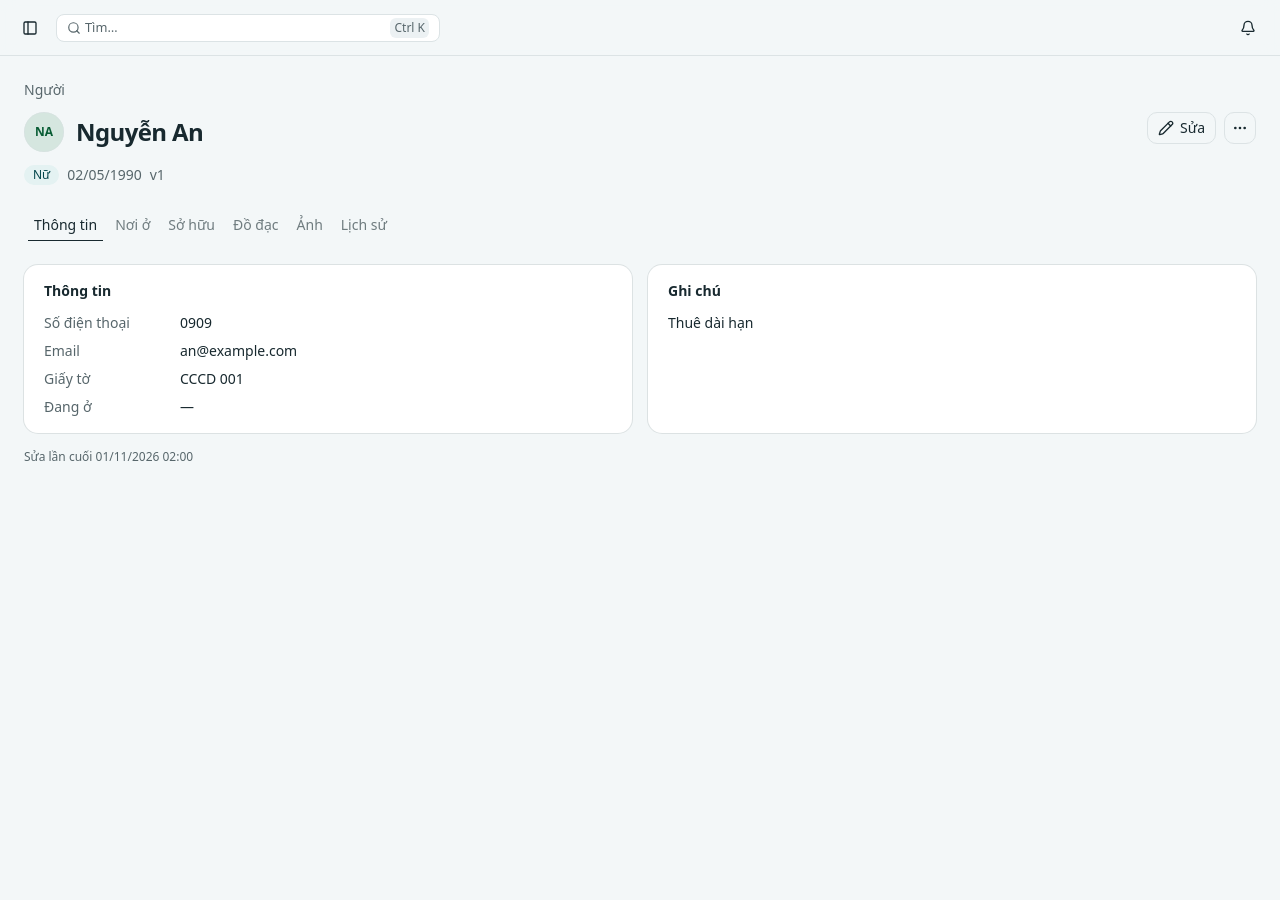
Test: undoRestoresTheDeletedPerson
Click the button named "Thao tác khác": (1240, 128) [1224,112,1256,144]
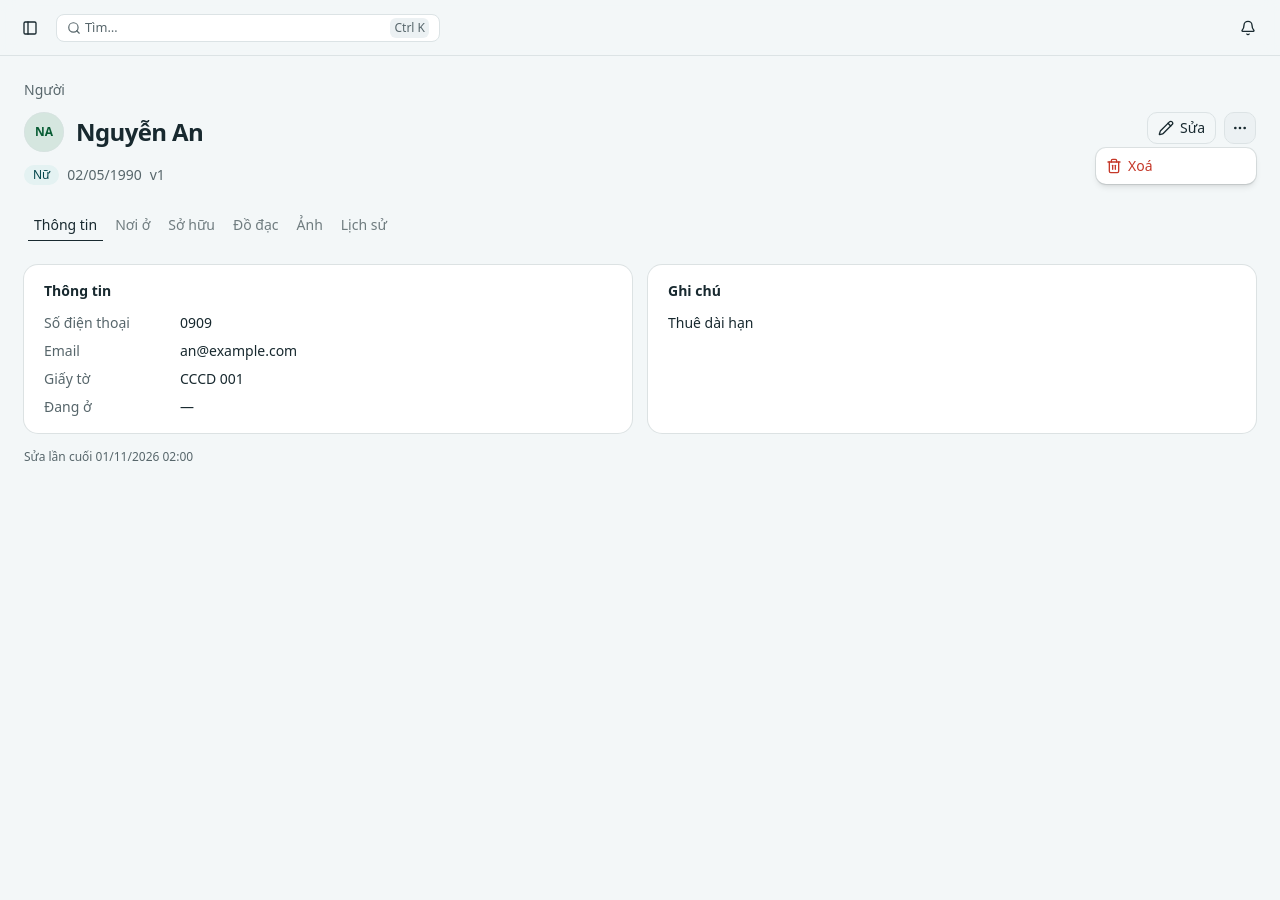
Click the menu item "Xoá": (1129, 166) [1106,156,1152,175]
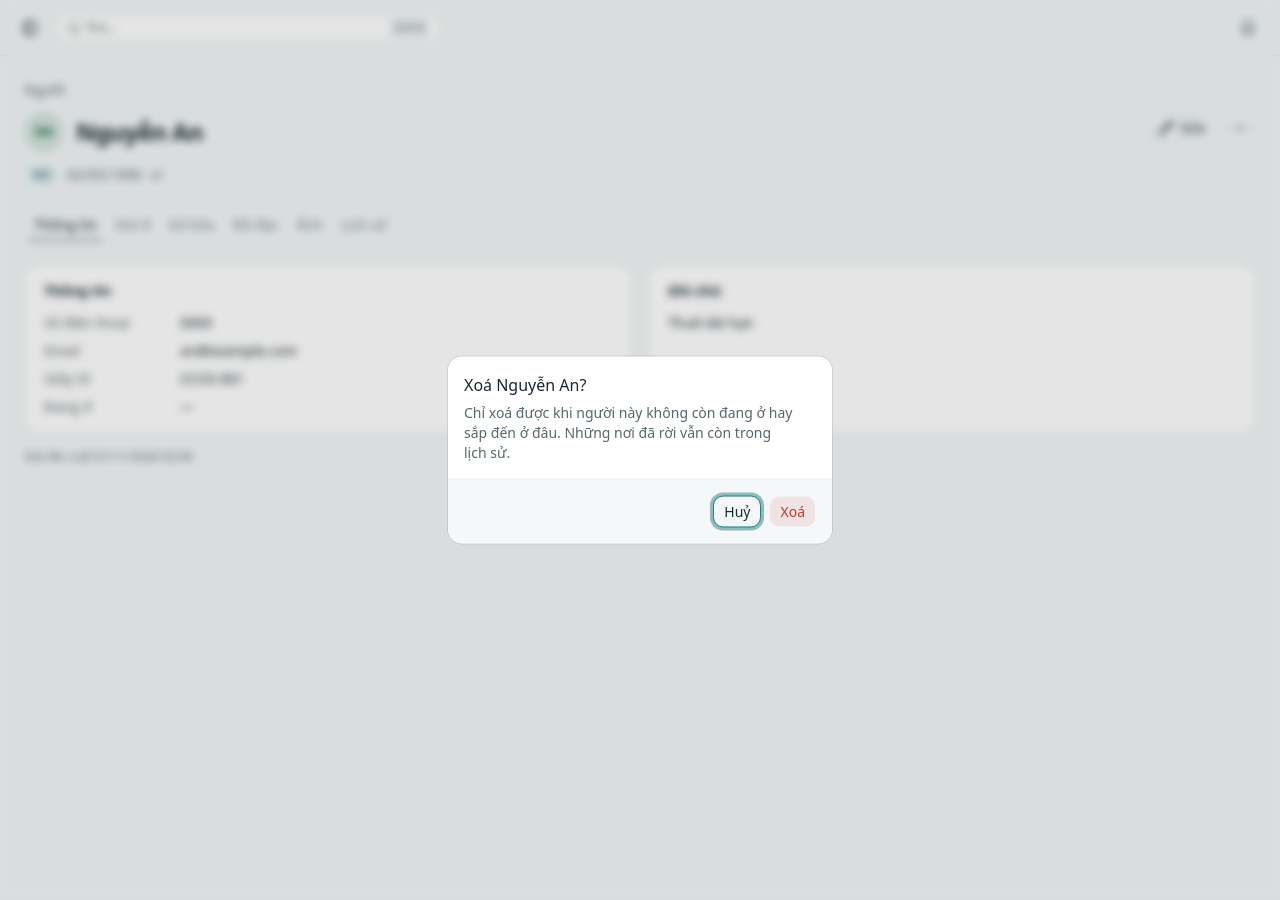
Click the button "Xoá": (793, 512) [770,496,816,528]
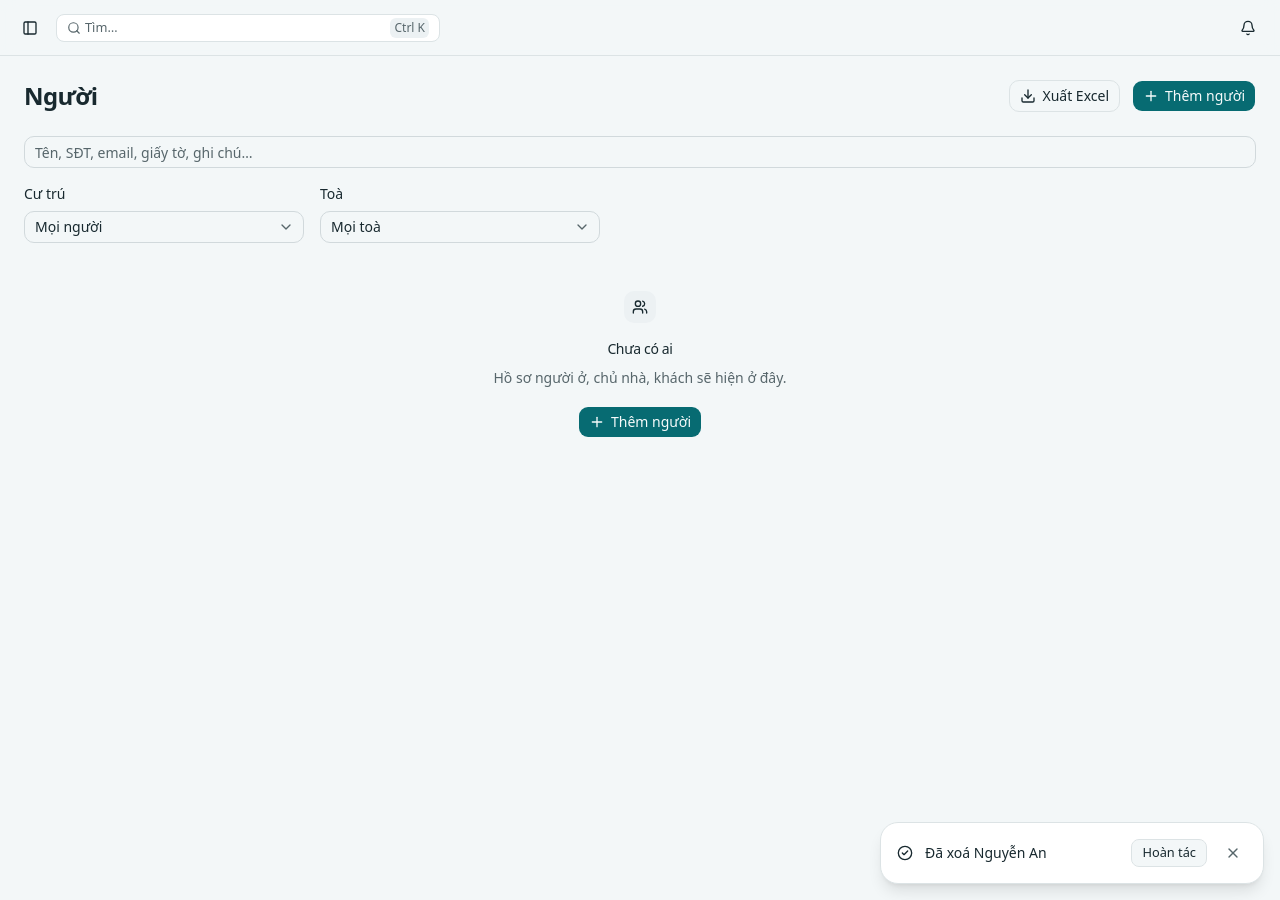
Click the button "Hoàn tác": (1169, 853) [1131,839,1207,867]
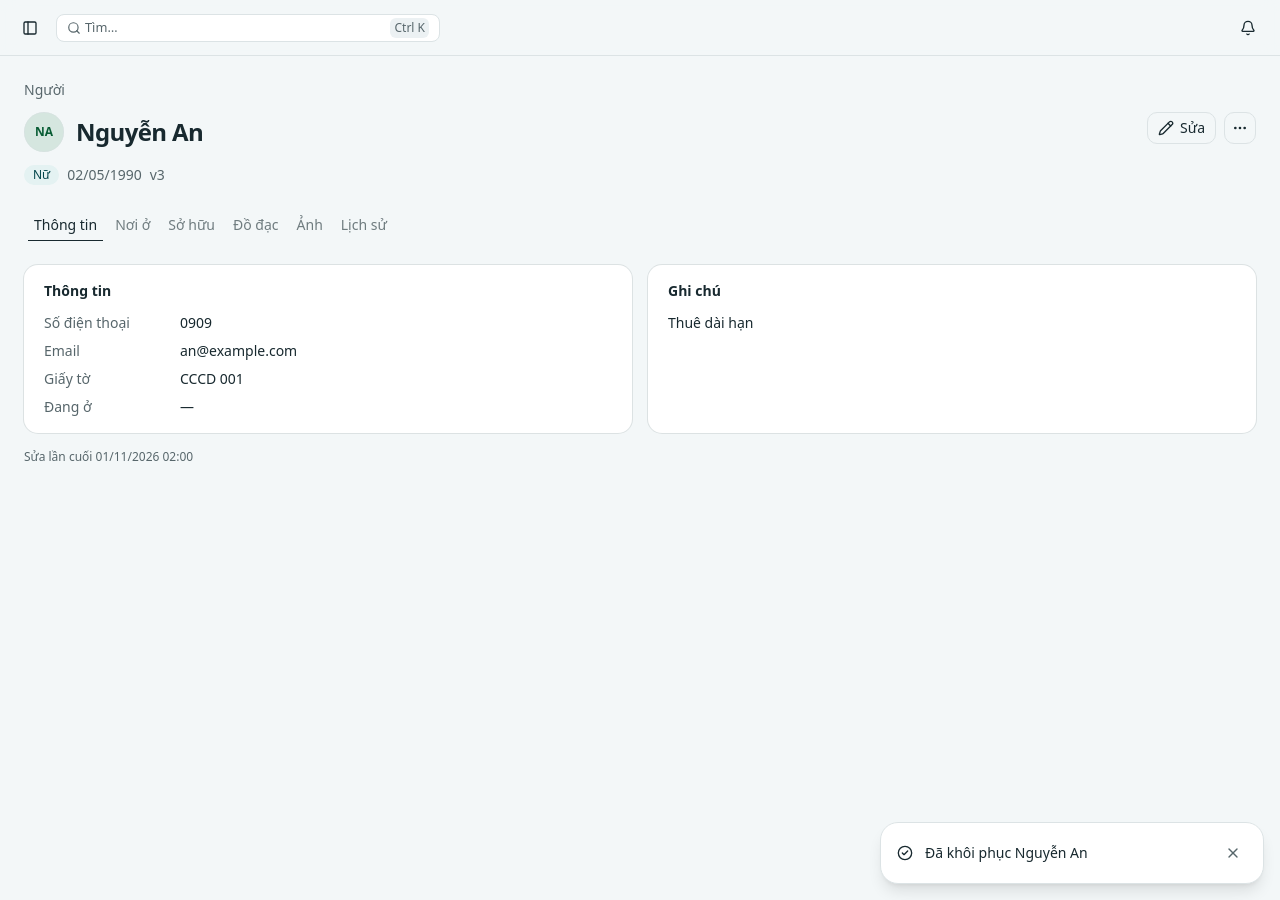
expect the heading "Nguyễn An" is shown: met, box [76,116,203,148]
